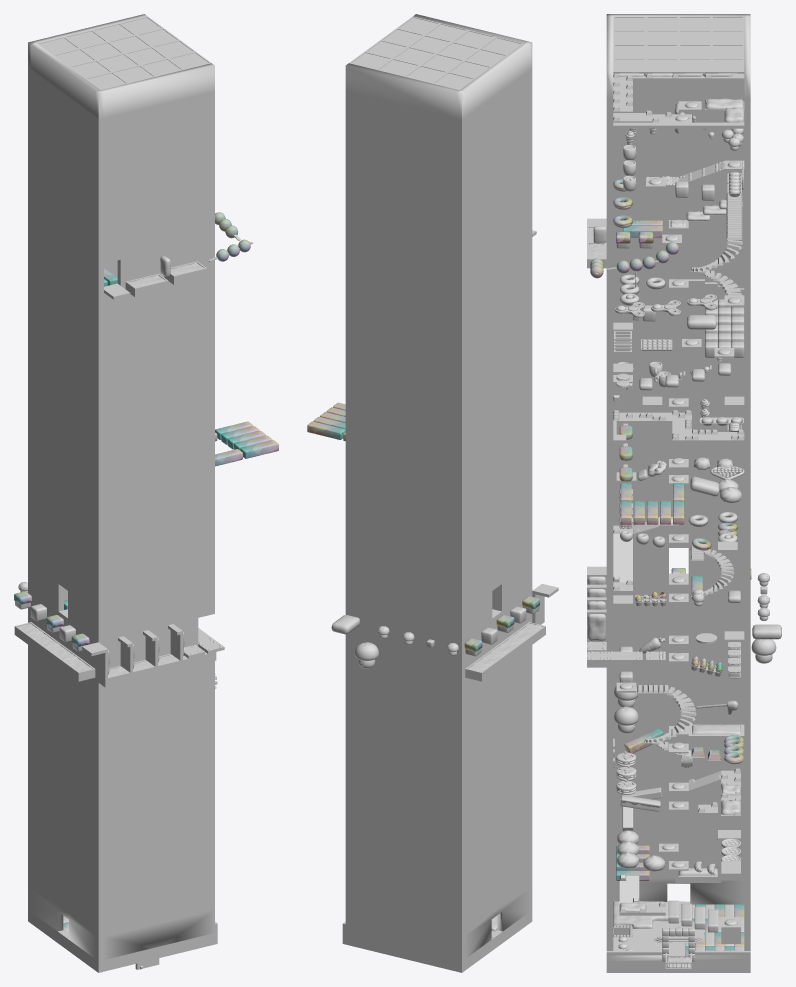
Rendered from World_2_RainbowObbyASMR_Tower.glb.
3 renders of one model, left to right at view 1: azimuth 30°, elevation 25°; view 2: azimuth 150°, elevation 25°; view 3: azimuth 270°, elevation 25°, orthographic. The views are drawn at different scales.
Parts seen in each view (by area): view 1: COLIDER_STAGE_7, Stage_1_Wall.001, Stage_5_Wall.001, Stage_2_Wall.002, Stage_9_Wall.005, Stage_7_Wall.009, Stage_8_Wall.006, Stage_4_Wall.004, Stage_3_Wall.003, Stage_End_Wall.004, Stage_End_Roof_Glass.001, Stage_End_Wall.003 (+8 smaller); view 2: Stage_1_Wall.001, Stage_9_Wall.005, COLIDER_STAGE_7, Stage_7_Wall.009, Stage_2_Wall.002, Stage_5_Wall.001, Stage_8_Wall.006, Stage_4_Wall.004, Stage_3_Wall.003, Stage_End_Wall.004, Stage_End_Roof_Glass.001, Stage_End_Wall.003 (+7 smaller); view 3: Stage_3_Wall.003, Stage_9_Wall.005, Stage_2_Wall.002, COLIDER_STAGE_7, Stage_8_Wall.006, Stage_5_Wall.001, Stage_7_Wall.009, Stage_1_Wall.001, Stage_4_Wall.004, Stage_End_Roof_Glass.001, Stage_0_Wall.001, Stage_End_Roof.001 (+21 smaller).
Boxes of the visible parts, <box> form: COLIDER_STAGE_7: <box>28,260,214,409</box>; Stage_1_Wall.001: <box>28,794,214,932</box>; Stage_5_Wall.001: <box>28,446,214,584</box>; Stage_2_Wall.002: <box>28,707,214,845</box>; Stage_9_Wall.005: <box>28,97,214,235</box>; Stage_7_Wall.009: <box>28,359,214,496</box>; Stage_8_Wall.006: <box>28,185,214,322</box>; Stage_4_Wall.004: <box>28,533,214,668</box>; Stage_3_Wall.003: <box>28,620,214,758</box>; Stage_End_Wall.004: <box>28,14,214,119</box>; Stage_End_Roof_Glass.001: <box>40,18,208,89</box>; Stage_End_Wall.003: <box>28,68,214,145</box>; Stage_1_Wall.001: <box>345,794,532,932</box>; Stage_9_Wall.005: <box>345,98,532,235</box>; COLIDER_STAGE_7: <box>345,272,532,409</box>; Stage_7_Wall.009: <box>345,359,532,496</box>; Stage_2_Wall.002: <box>345,707,532,845</box>; Stage_5_Wall.001: <box>345,446,532,583</box>; Stage_8_Wall.006: <box>345,185,532,322</box>; Stage_4_Wall.004: <box>345,533,532,670</box>; Stage_3_Wall.003: <box>345,620,532,758</box>; Stage_End_Wall.004: <box>345,14,532,119</box>; Stage_End_Roof_Glass.001: <box>352,17,520,89</box>; Stage_End_Wall.003: <box>345,69,532,145</box>; Stage_3_Wall.003: <box>606,607,750,751</box>; Stage_9_Wall.005: <box>606,81,750,217</box>; Stage_2_Wall.002: <box>606,696,750,840</box>; COLIDER_STAGE_7: <box>606,251,750,395</box>; Stage_8_Wall.006: <box>606,162,750,306</box>; Stage_5_Wall.001: <box>606,429,750,573</box>; Stage_7_Wall.009: <box>606,340,750,484</box>; Stage_1_Wall.001: <box>606,785,750,929</box>; Stage_4_Wall.004: <box>606,518,750,662</box>; Stage_End_Roof_Glass.001: <box>615,18,742,71</box>; Stage_0_Wall.001: <box>606,877,750,960</box>; Stage_End_Roof.001: <box>613,16,744,73</box>.
Size of what is drawn, in the model's own units: 73.68 by 309 by 59.5.
